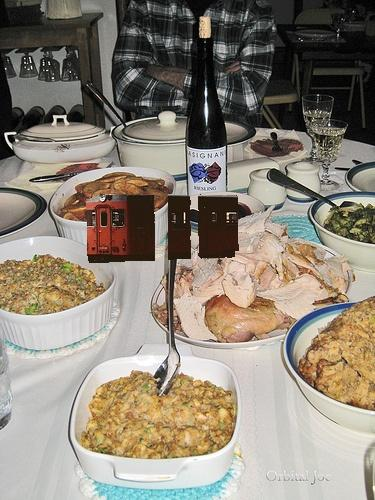tampered: (87, 195, 239, 263)
